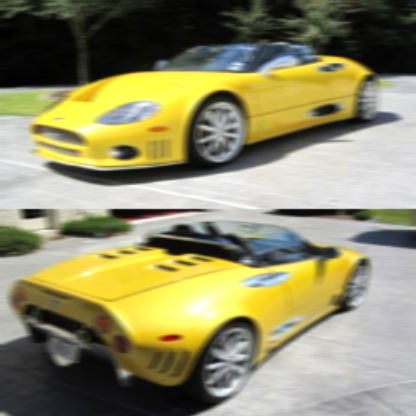Vehicle: (10, 220, 370, 402)
